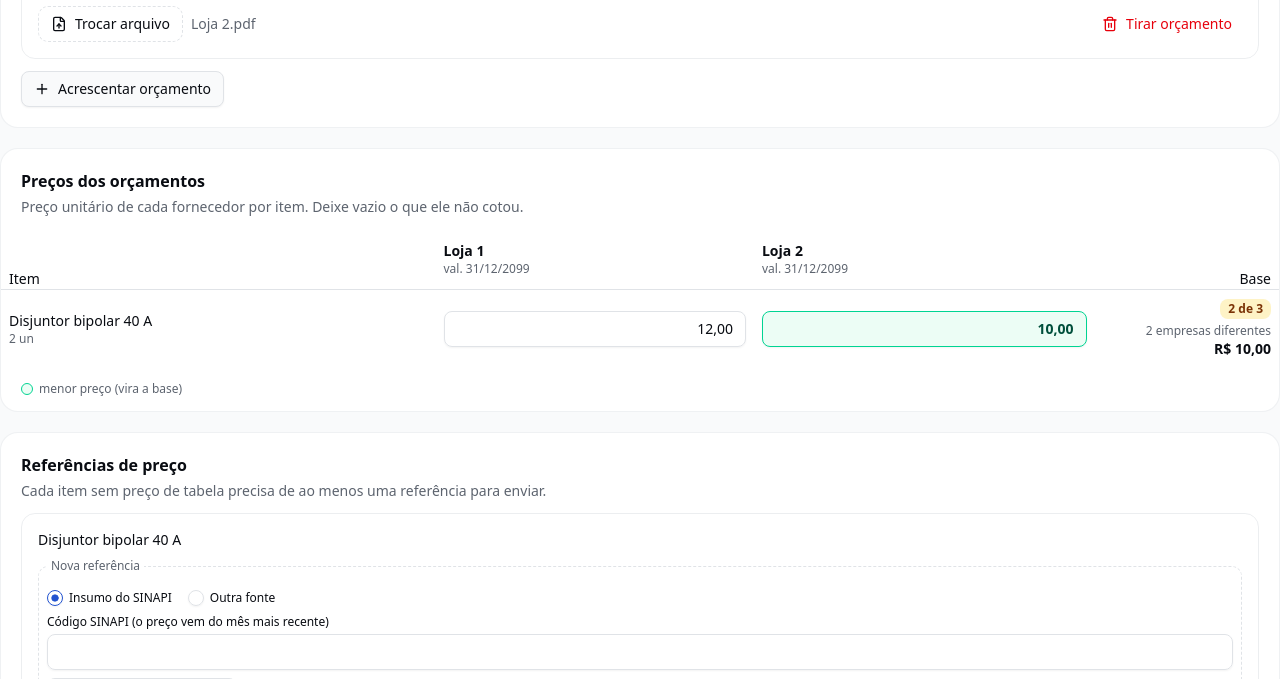
Test: grade de preços e lista ao vivo › a lista mostra o que falta e muda sem ir ao servidor
The image size is (1280, 679).
(page scrolled)
Clear the field named "Disjuntor bipolar 40 A, Loja 2, preço unitário" at x=924, y=328, box [762,310,1087,346]
(page scrolled)
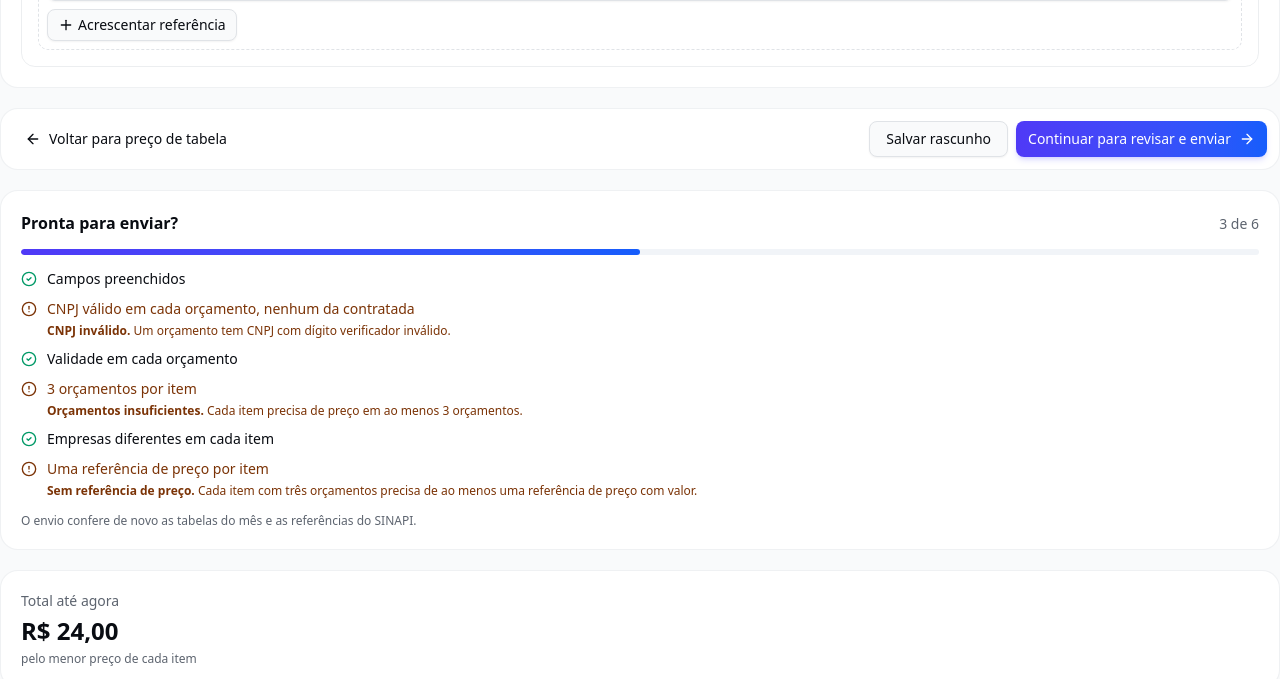
Expected: the text "R$ 24,00" is shown, [21,614,119,647]
